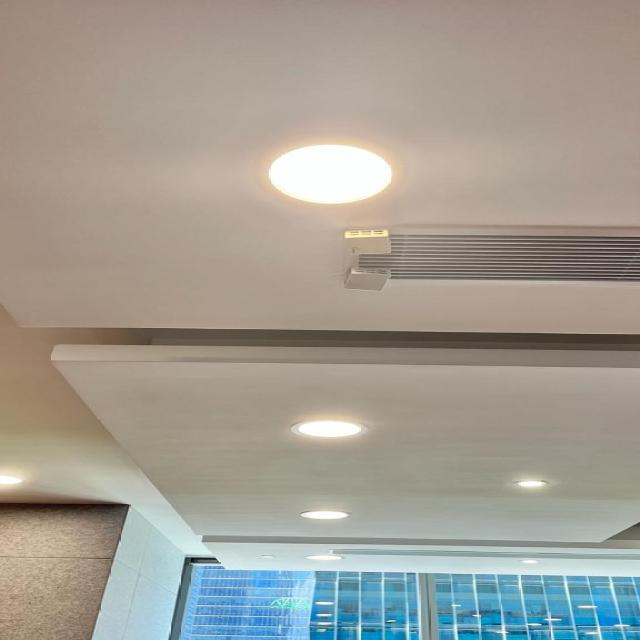Light-Opened: (228, 140, 406, 206), (273, 412, 365, 443), (498, 472, 568, 497), (292, 504, 354, 528), (298, 549, 343, 568), (505, 555, 543, 568), (0, 468, 22, 487)
